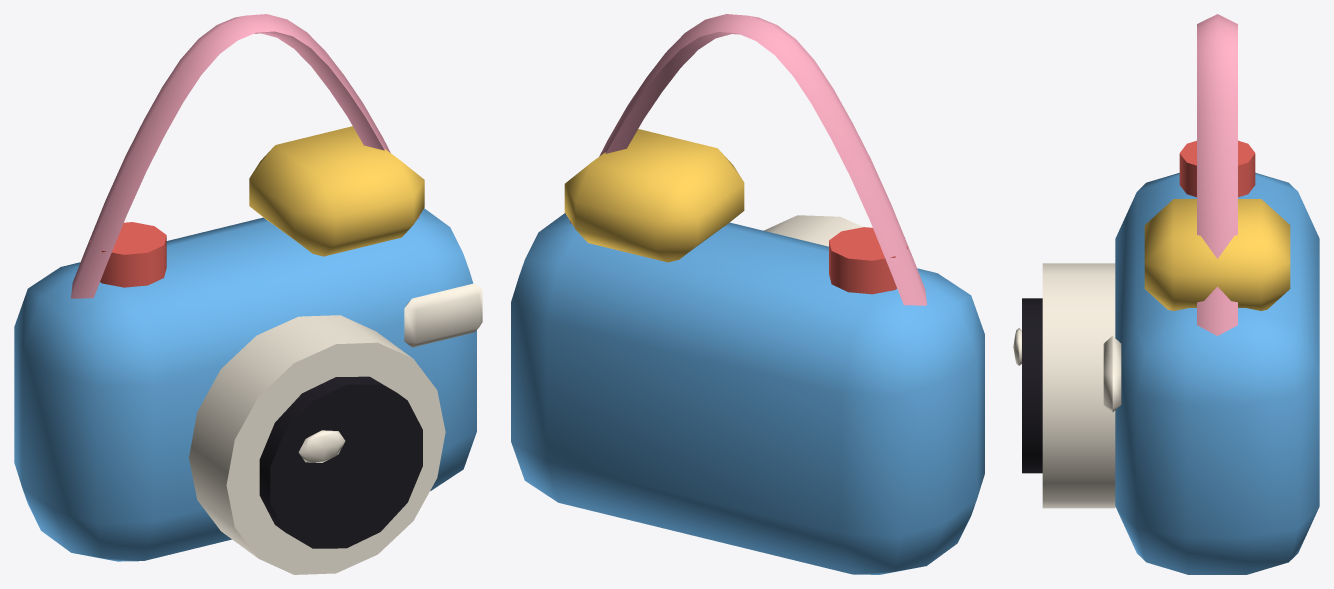
The model's file is item_camera.glb.
3 views of the same model, side by side, from view 1: azimuth 30°, elevation 25°; view 2: azimuth 150°, elevation 25°; view 3: azimuth 270°, elevation 25° (orthographic). The views are drawn at different scales.
Parts seen in each view (by area): view 1: item_camera; view 2: item_camera; view 3: item_camera.
Part boxes in pixels (<box>): item_camera: <box>14,14,482,574</box>; item_camera: <box>511,14,984,574</box>; item_camera: <box>1013,14,1319,574</box>.
Size of the model in its own units: 0.16 by 0.1831 by 0.105.
